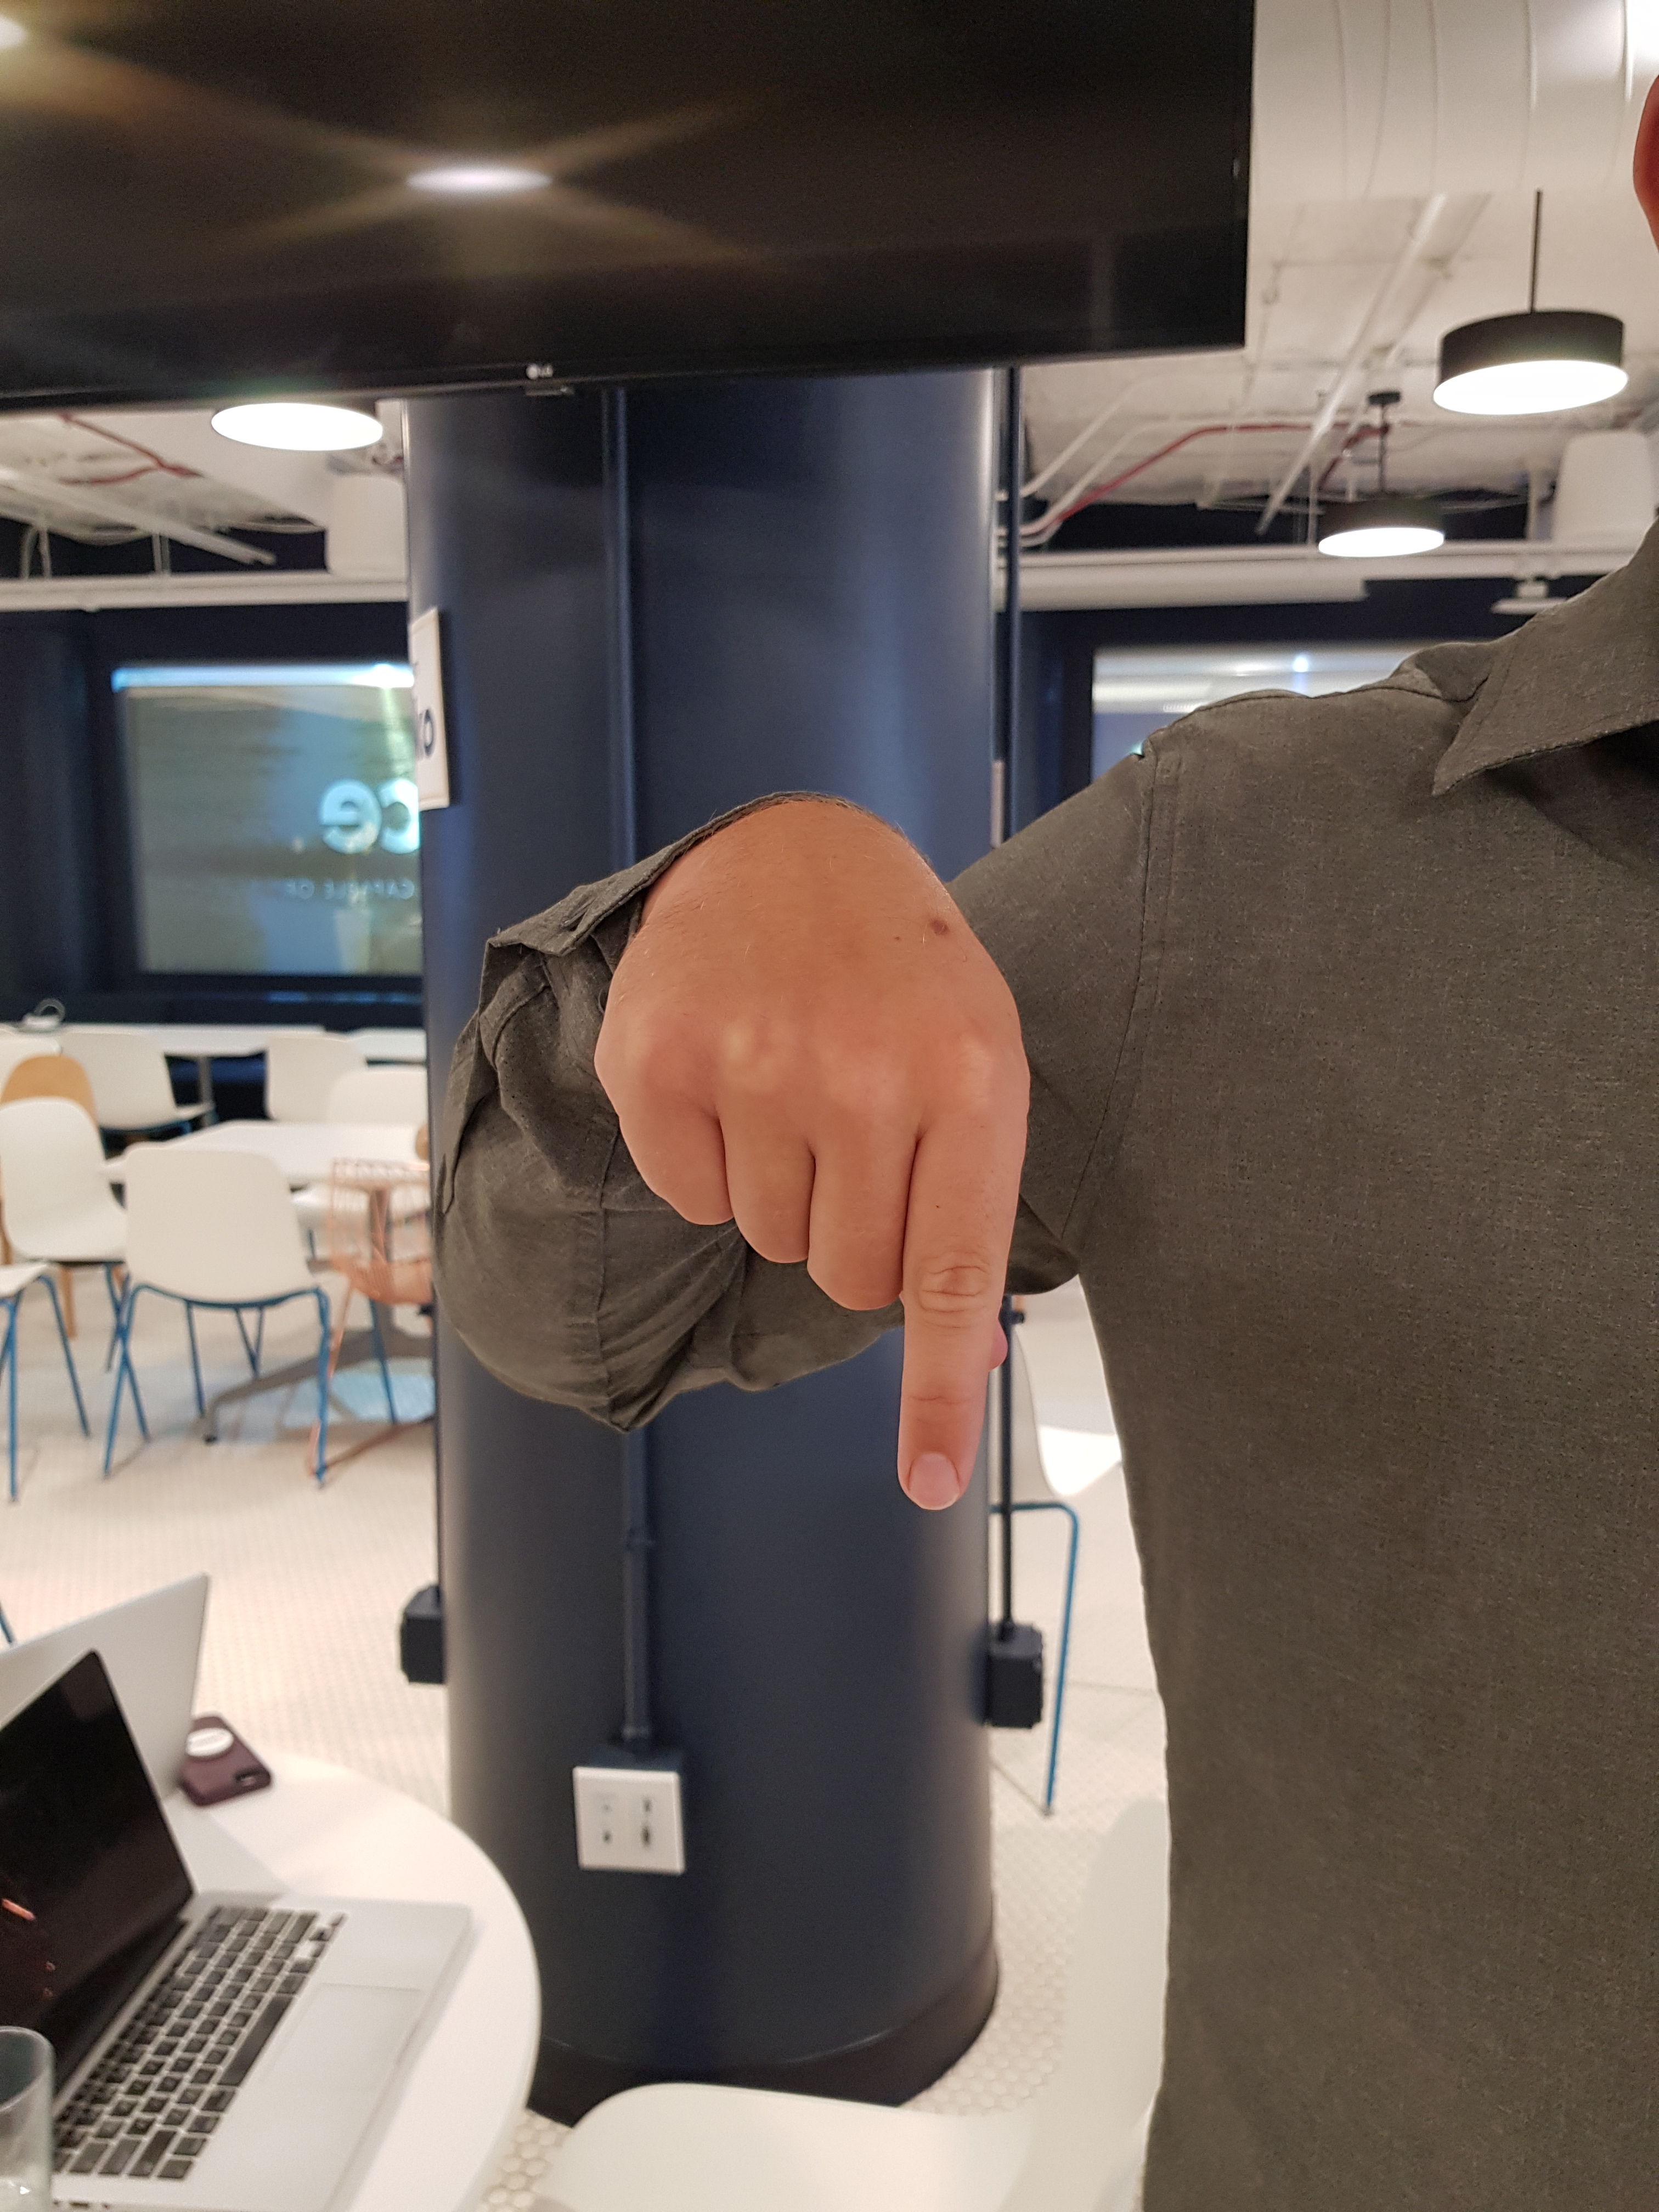q: (554, 752, 1101, 1538)
